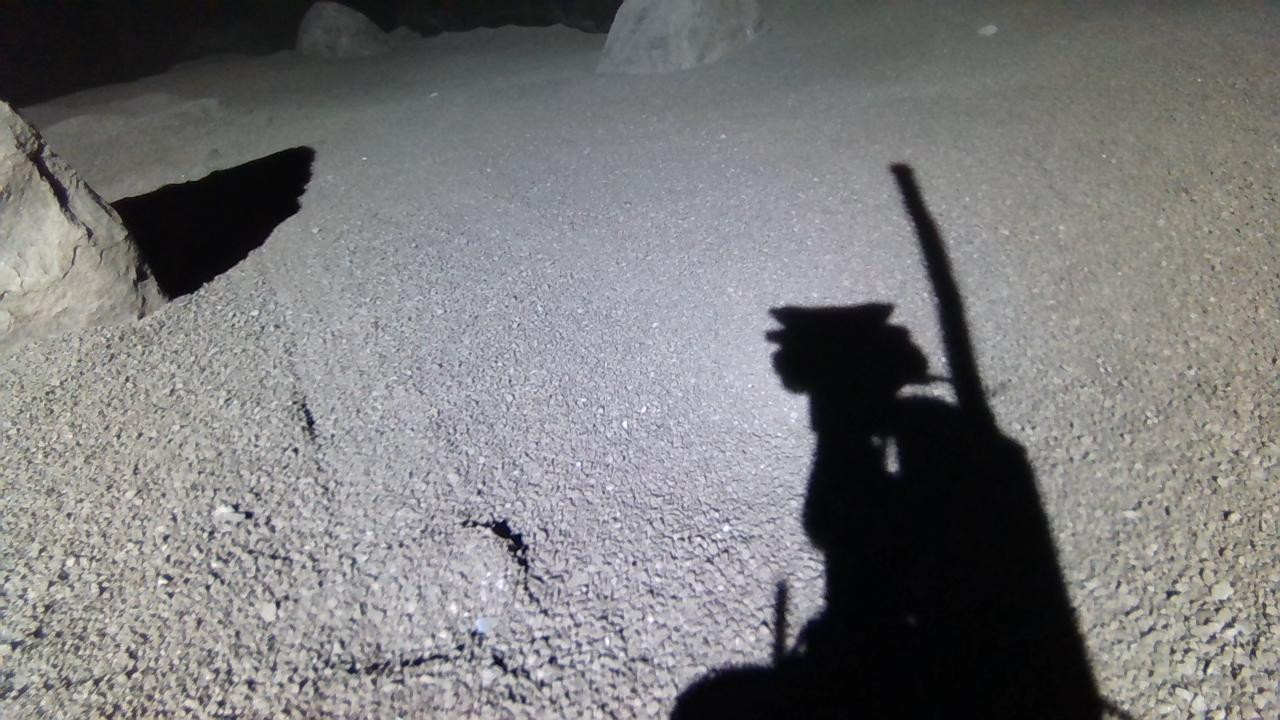rock: (598, 0, 764, 71), (295, 1, 391, 55)
